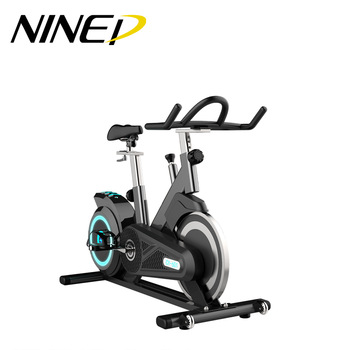gym_bike: (59, 96, 285, 328)
